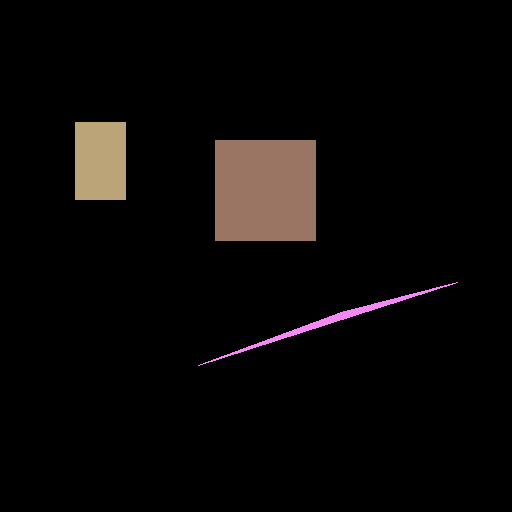rectangle: (75, 122, 125, 199)
square: (215, 140, 315, 240)
